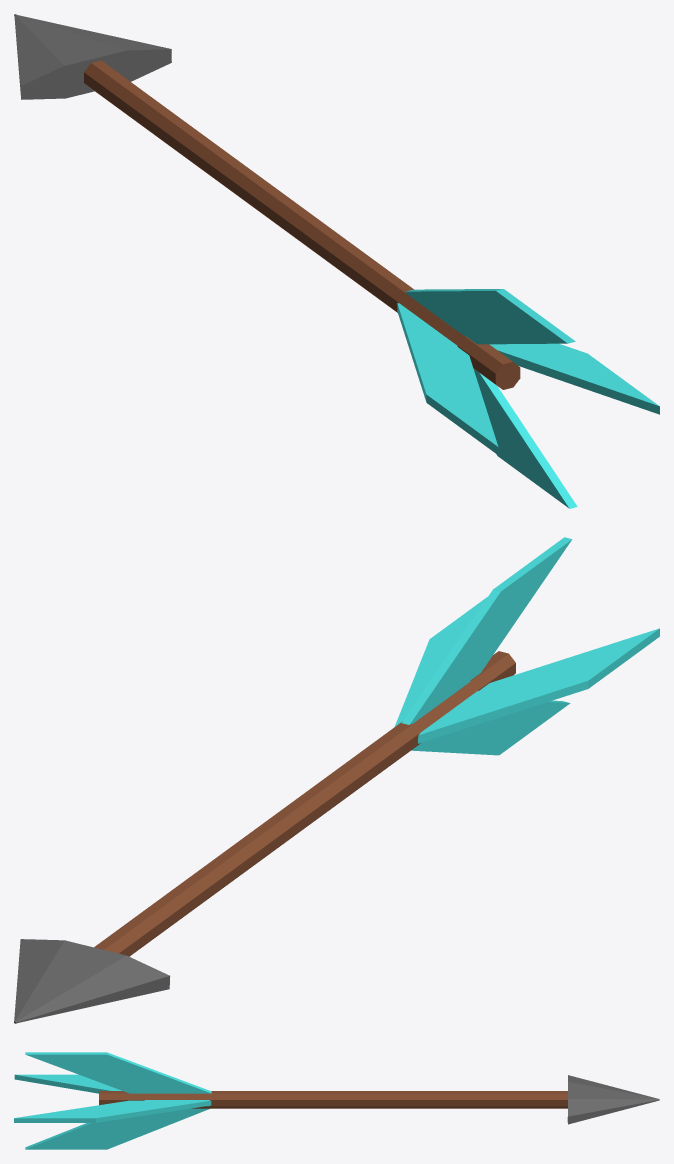
File: Arrow Single Mesh.fbx
The picture shows the model from 3 angles, top to bottom: view 1: azimuth 30°, elevation 25°; view 2: azimuth 150°, elevation 25°; view 3: azimuth 270°, elevation 25°; orthographic projection. The views are drawn at different scales.
Parts seen in each view (by area): view 1: Arrowhead; view 2: Arrowhead; view 3: Arrowhead.
Boxes of the visible parts, x1=… form: Arrowhead: x1=14, y1=14, x2=659, y2=508; Arrowhead: x1=14, y1=537, x2=659, y2=1023; Arrowhead: x1=14, y1=1052, x2=659, y2=1149.
Size of the model in its own units: 135 by 133 by 826.
